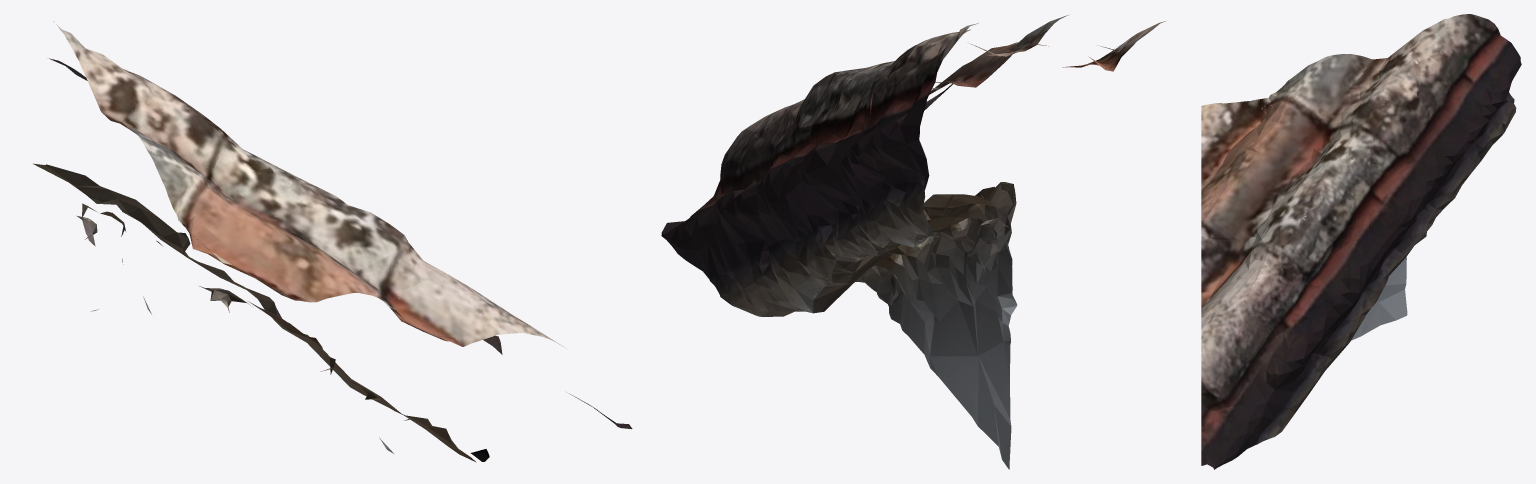
3 views of the same model, side by side, from view 1: azimuth 30°, elevation 25°; view 2: azimuth 150°, elevation 25°; view 3: azimuth 270°, elevation 25° (orthographic). The views are drawn at different scales.
Bounding box in the file's own units: 0.8373 × 0.7616 × 0.7331.
4 materials, 4 textured.
